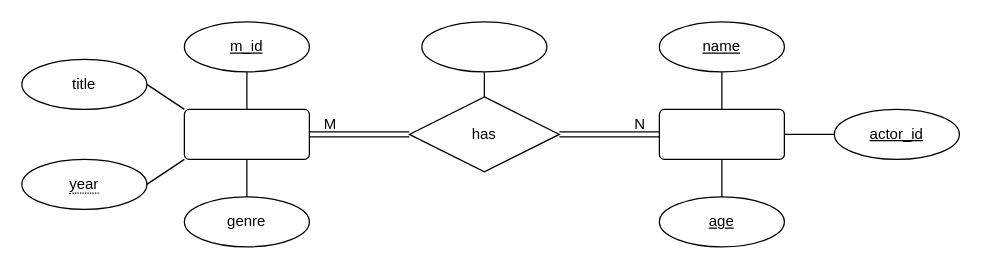
Some shapes in this 981 by 269 pixel diagram are drawn without their labels. Each missing label, with the centre of its shape:
Actor: the point at 721,133
Movie: the point at 246,133
role: the point at 484,46
